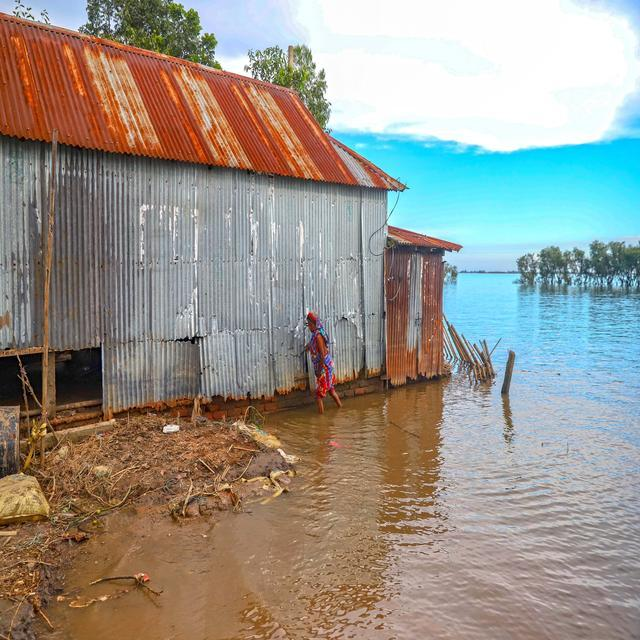Person-RiskLevel2: (291, 308, 353, 411)
